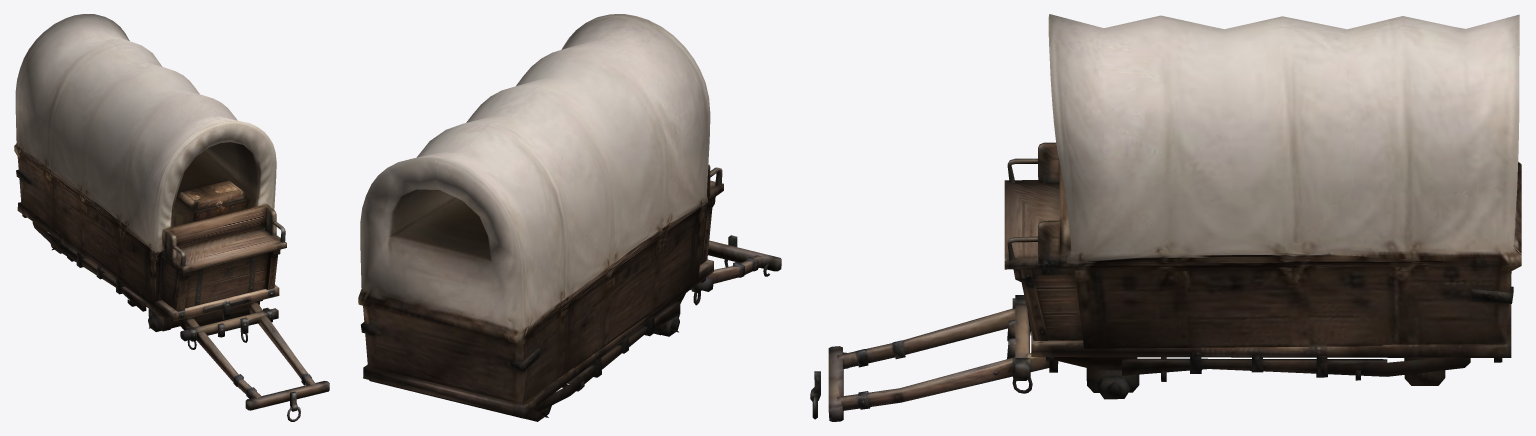
File: covered.glb
3 renders of one model, left to right at view 1: azimuth 30°, elevation 25°; view 2: azimuth 150°, elevation 25°; view 3: azimuth 270°, elevation 25°, orthographic. The views are drawn at different scales.
Visible parts, largest first — view 1: body, tongue; view 2: body, tongue; view 3: body, tongue.
Part boxes in pixels (x1=…): body: x1=14, y1=14, x2=286, y2=331; tongue: x1=180, y1=302, x2=329, y2=421; body: x1=358, y1=14, x2=723, y2=421; tongue: x1=690, y1=235, x2=781, y2=305; body: x1=1004, y1=14, x2=1521, y2=399; tongue: x1=810, y1=295, x2=1058, y2=421.
Bounding box in the file's own units: 1.41 × 2.73 × 4.46.
Materials: 1 (1 with a texture image).
